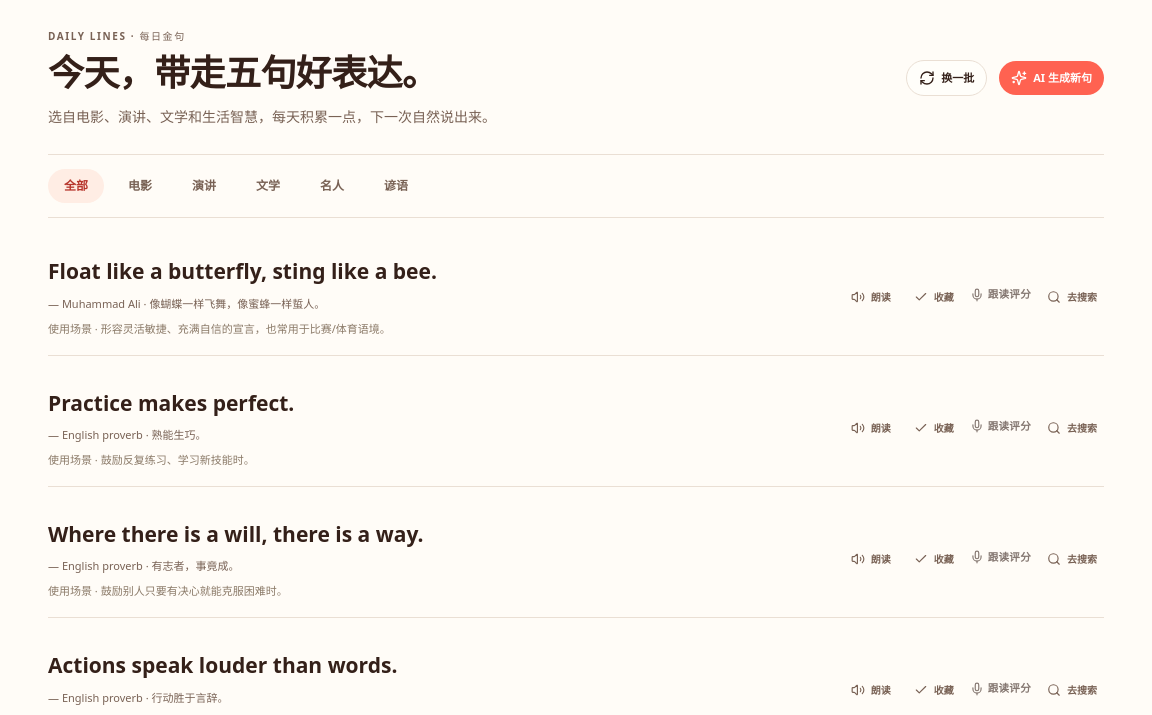
Test: surfaces missing English voices from Daily, dismisses the error, and shows a fresh attempt again
Expected: the heading "今天，带走五句好表达。" is shown, [48, 48, 437, 97]
Click the button "朗读" in the row of "Muhammad Ali": (871, 296) [844, 284, 898, 310]
Wait 2000 ms
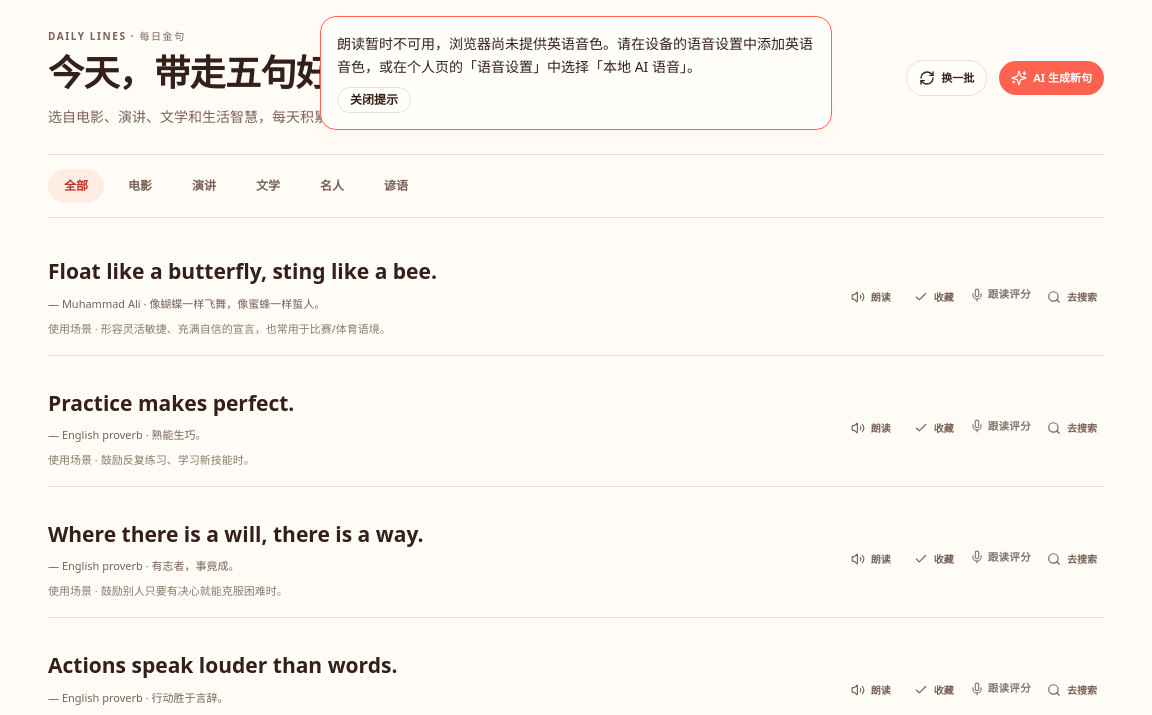
Now the message shows "浏览器尚未提供英语音色", box [337, 34, 813, 76]
Click the button with aria-label "关闭朗读错误提示": (374, 100) [337, 86, 411, 112]
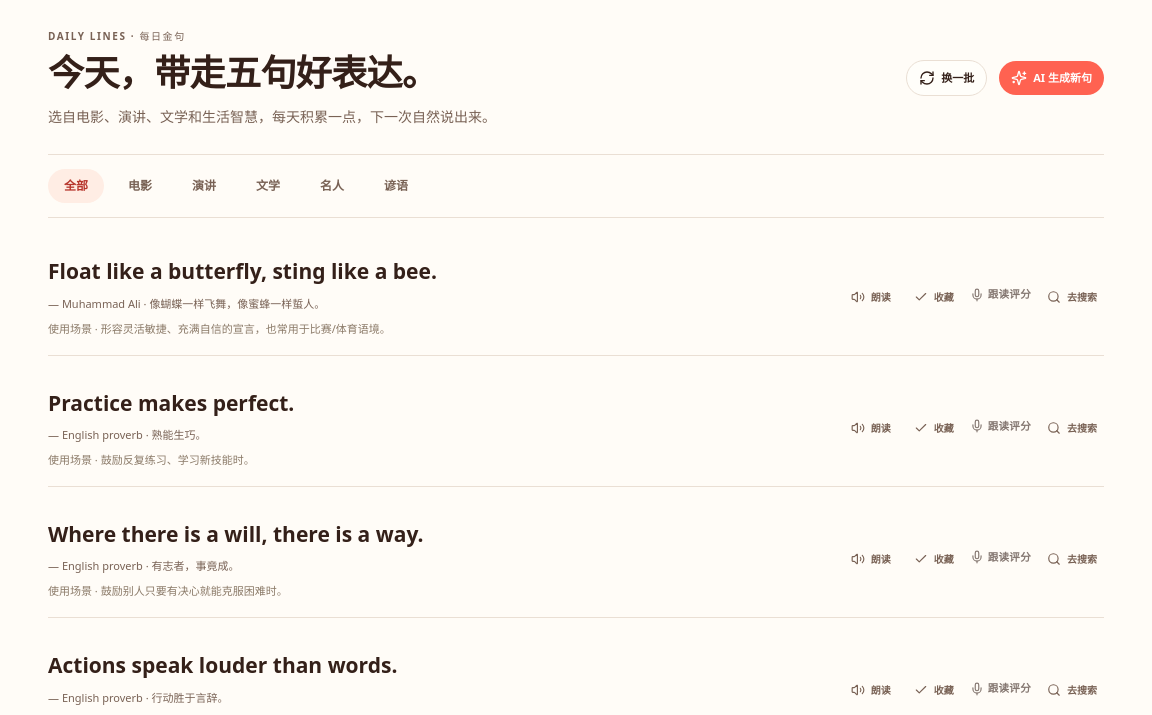
Now the message "朗读暂时不可用，浏览器尚未提供英语音色。请在设备的语音设置中添加英语音色，或在个人页的「语音设置」中选择「本地 AI 语音」。 关闭提示" is gone
Click the button "朗读" in the row of "Muhammad Ali": (871, 296) [844, 284, 898, 310]
Wait 2000 ms
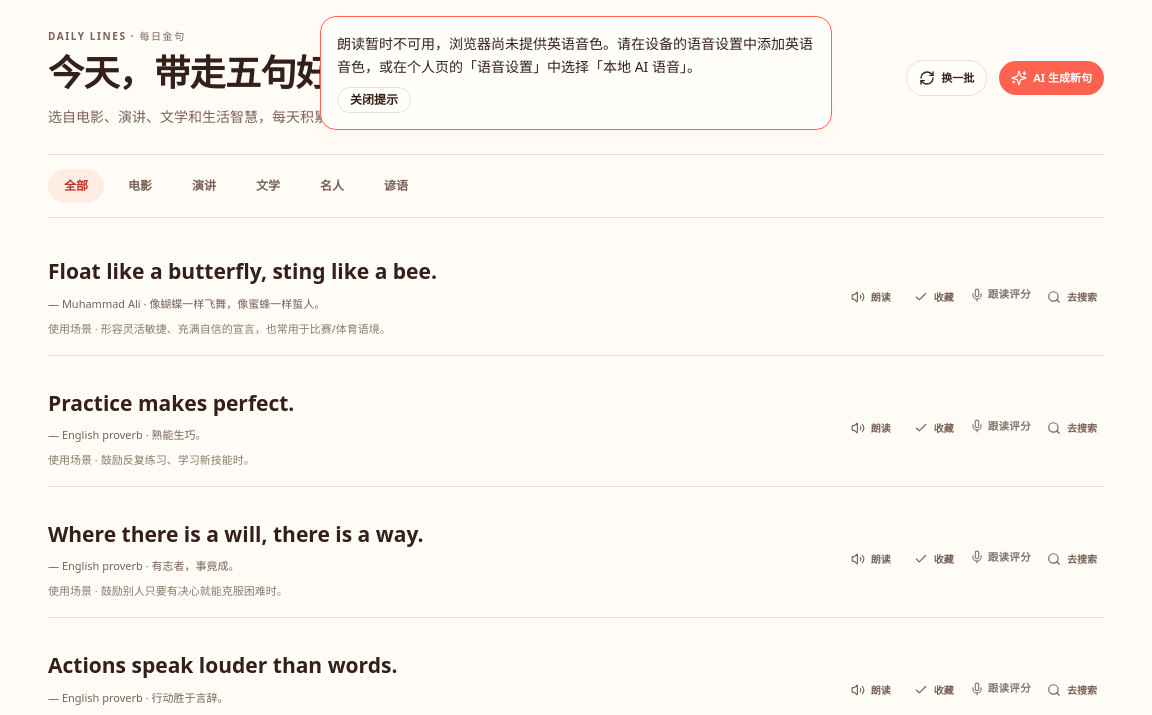
Now the message shows "浏览器尚未提供英语音色", box [337, 34, 813, 76]
